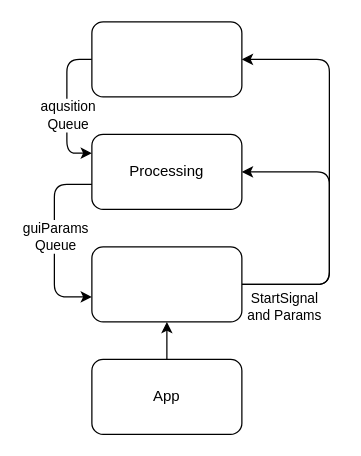
Image size: 361x456. Some labels were removed from this diagram. The centre of each missing label's shape, as x and y in pixels:
Audio Auqisition: [166,59]
GUI: [166,284]
